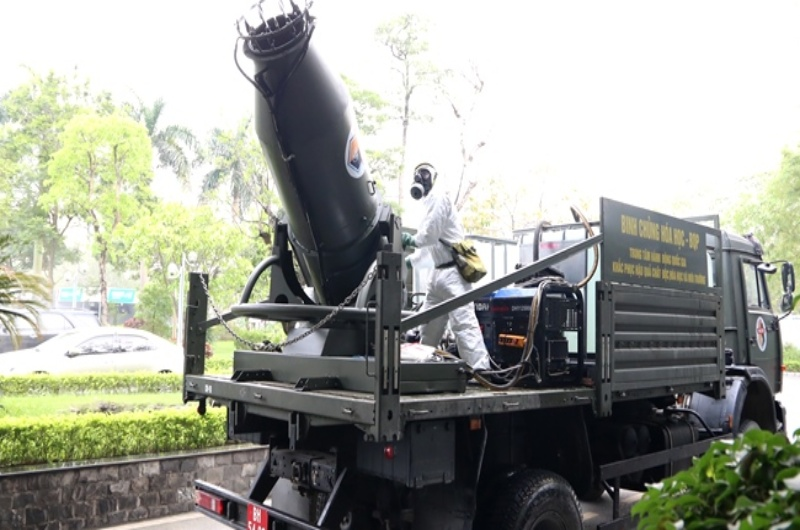plate: (242, 504, 270, 530)
